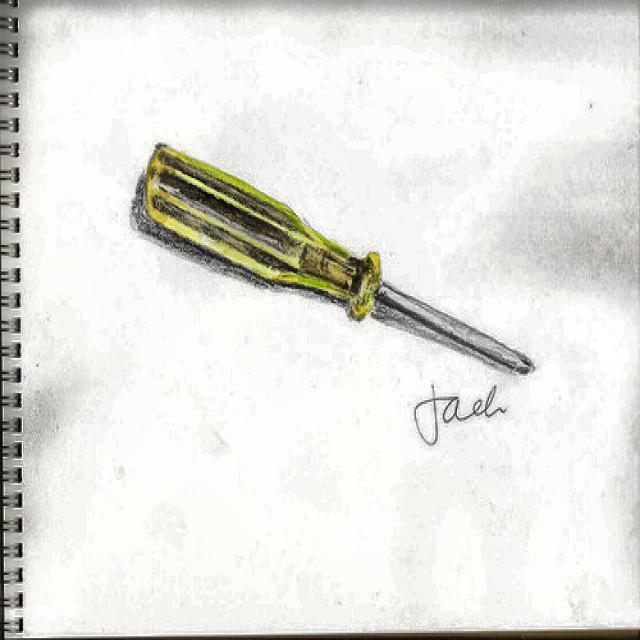screwdriver: (144, 141, 536, 379)
